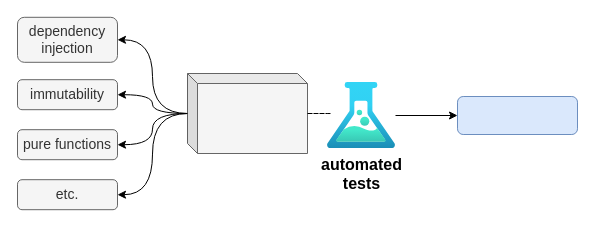
Some shapes in this 595 by 228 pixel diagram are drawn without their labels. The shapes that lost their labels are listed below. From the top down, each one's box as (x1, y1, x2, y2) in pixels, then its label:
(186, 72, 308, 154): production code
(456, 96, 578, 134): this presentation
